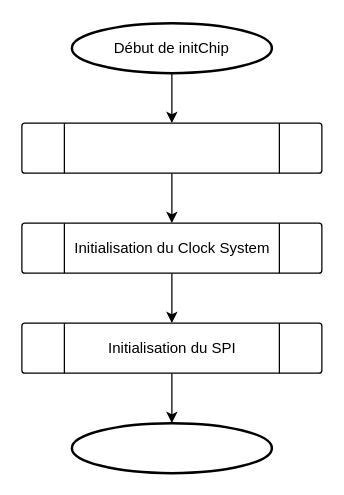
This 344x495 diagram has some shape labels left out. Each missing label, with the box of its shape:
Fin de initChip: (70, 421, 272, 474)
Initialisation des entrées-sorties: (21, 122, 322, 173)
